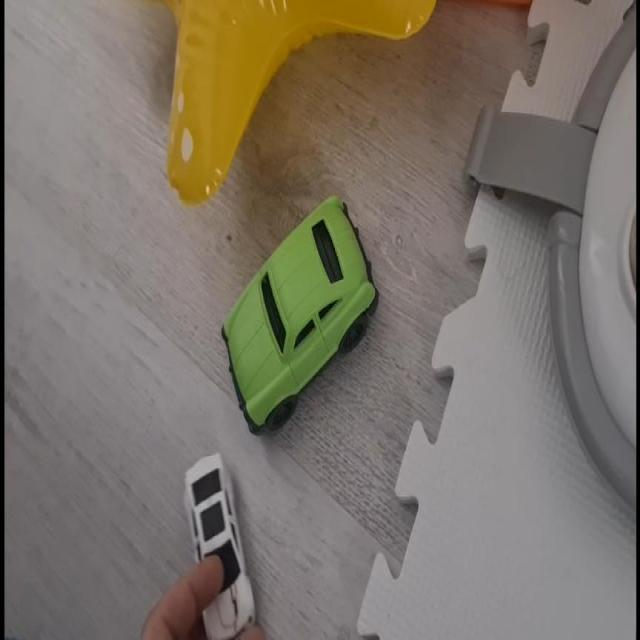hard-toy: (224, 197, 377, 434), (186, 455, 256, 640)
